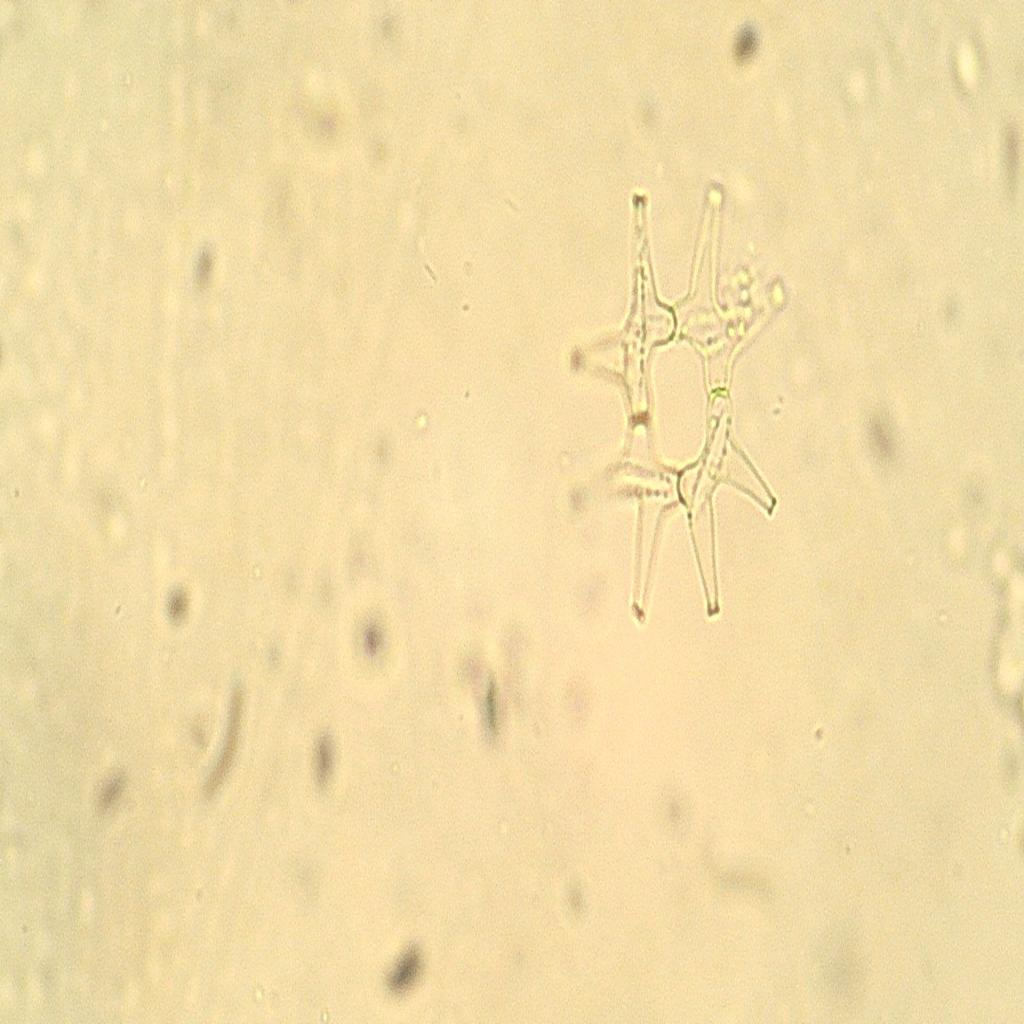Pediastrum_75TH: (544, 153, 808, 659)
